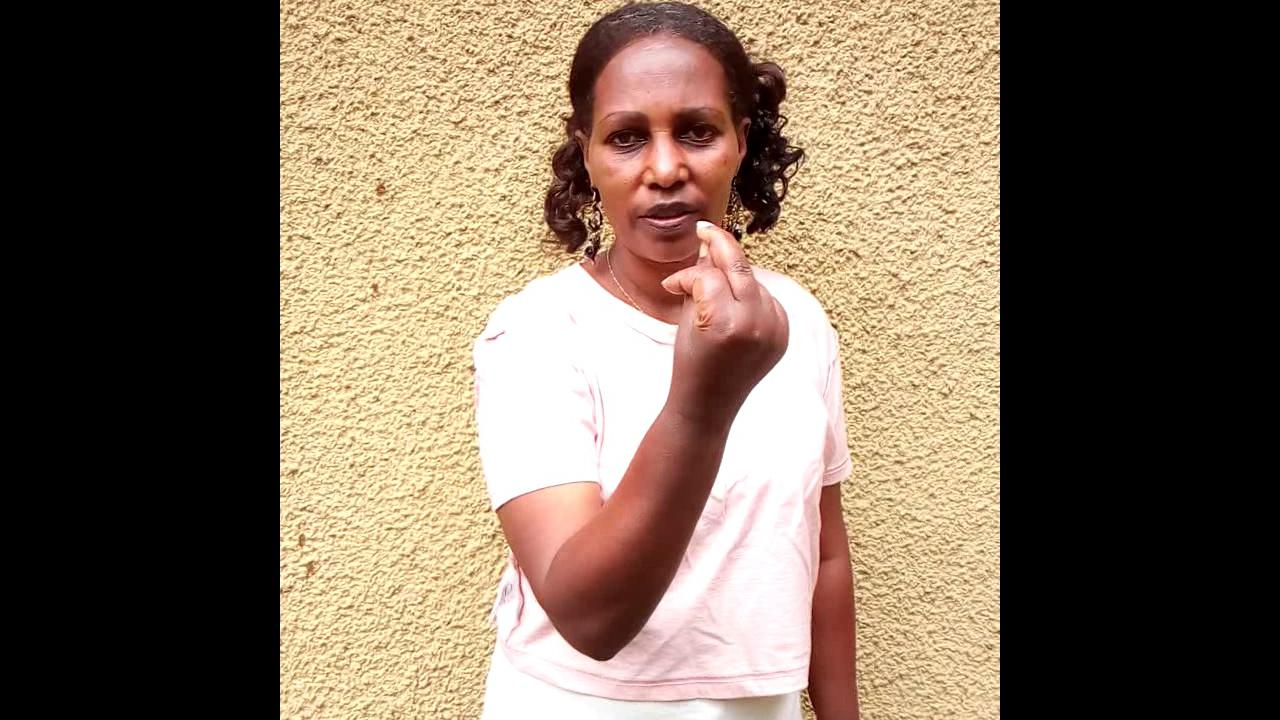CHE: (659, 223, 795, 479)
